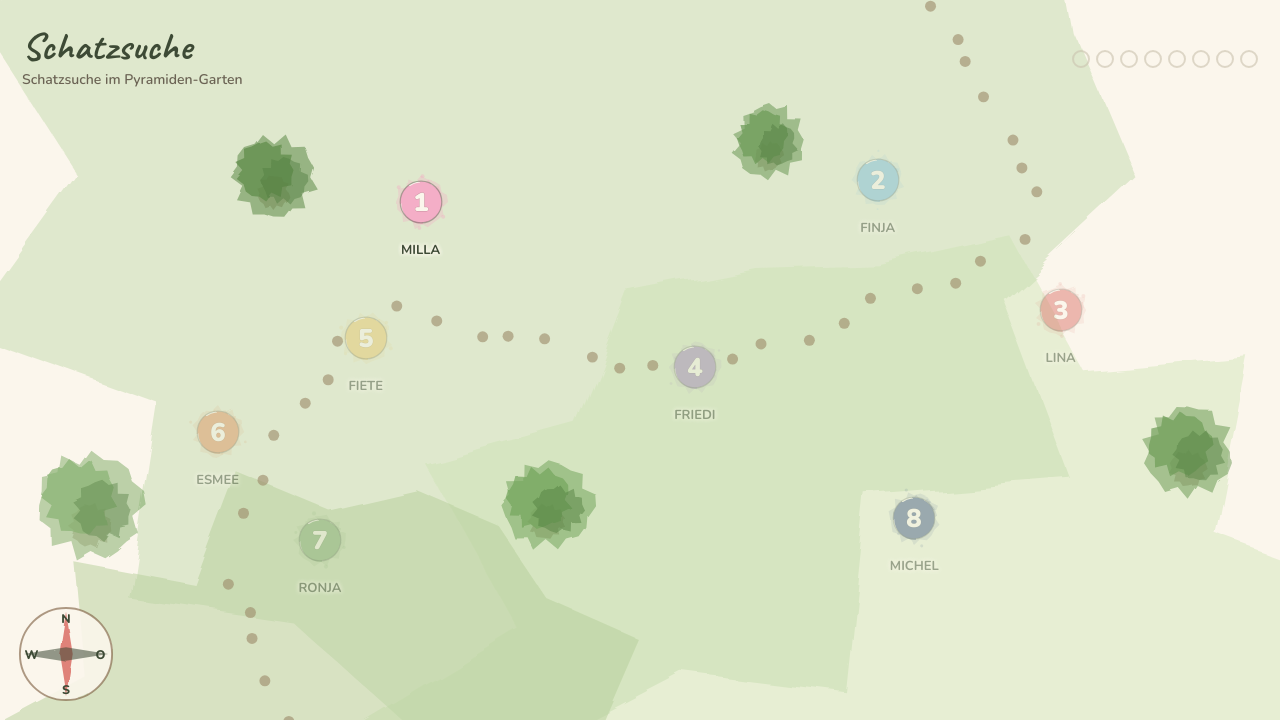
Test case: MapScreen › activates marker 2 (LINA) after marker 1 is solved
Click the button with test id "station-marker-1". click: (421, 202)
box: [381,162,461,242]
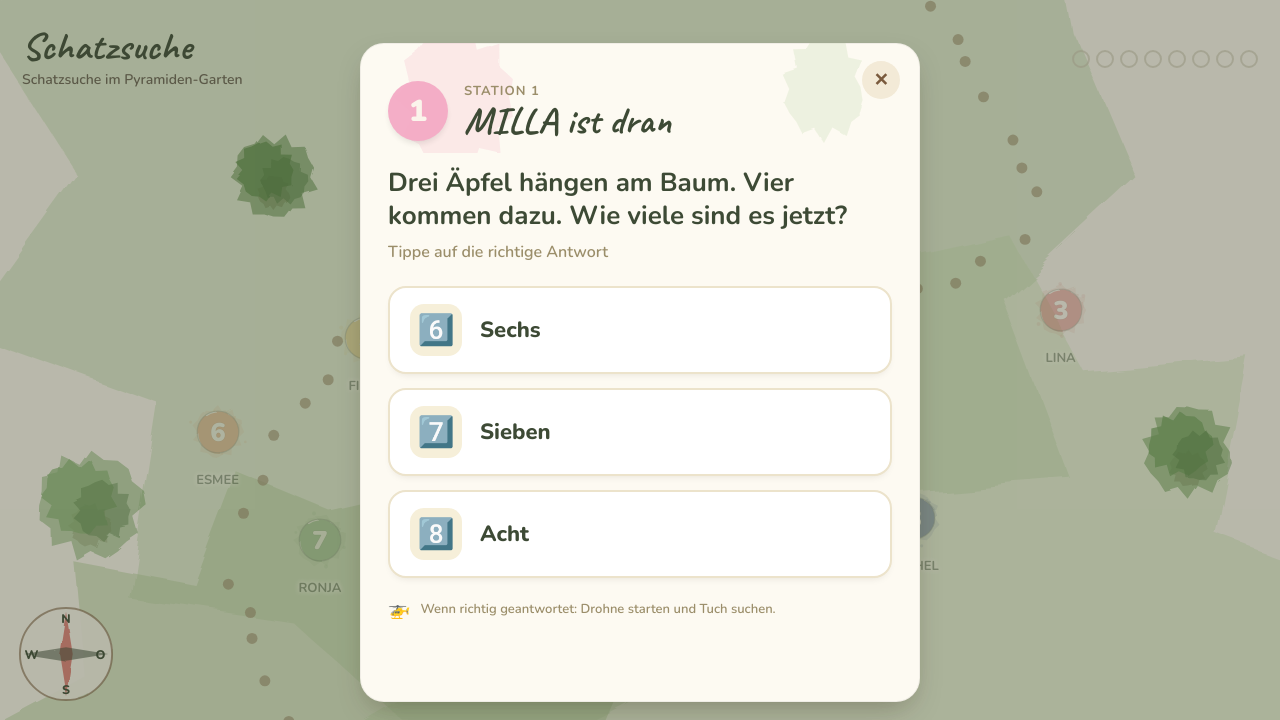
Click the button "7️⃣ Sieben". click: (436, 432)
box: [388,388,892,476]
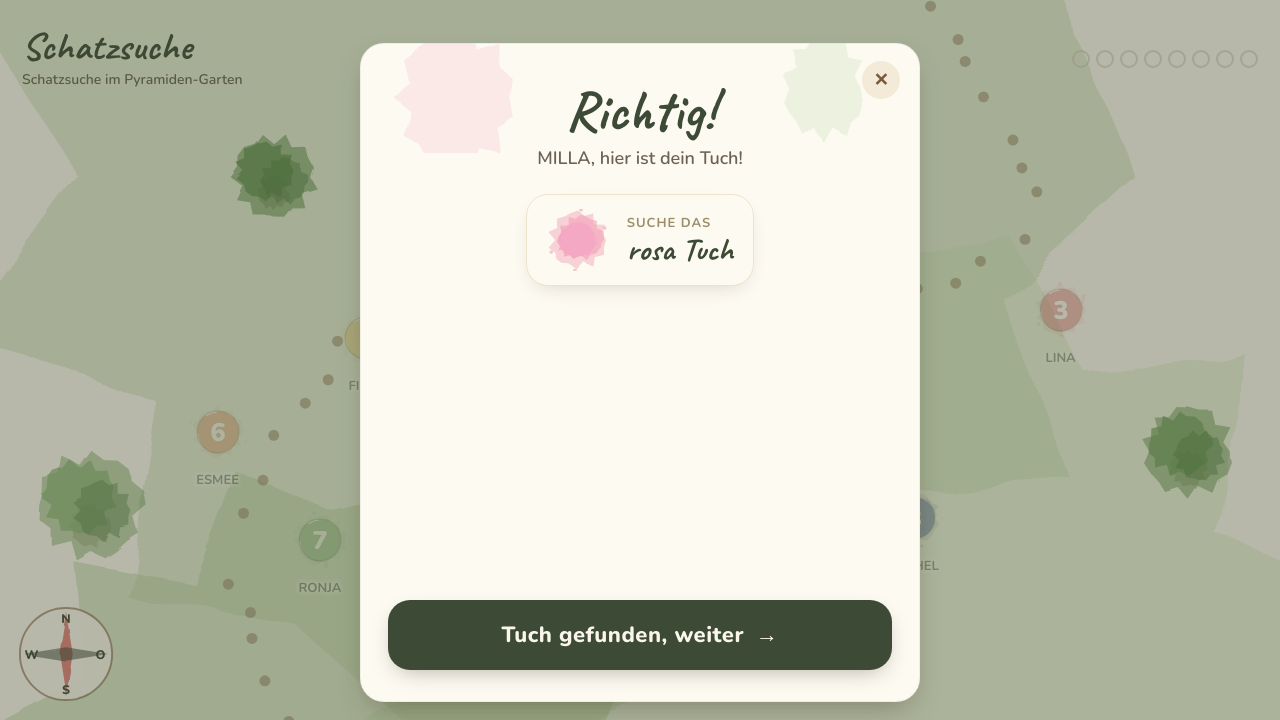
Click the button "Tuch gefunden, weiter →". click: (640, 635)
box: [388,600,892,670]
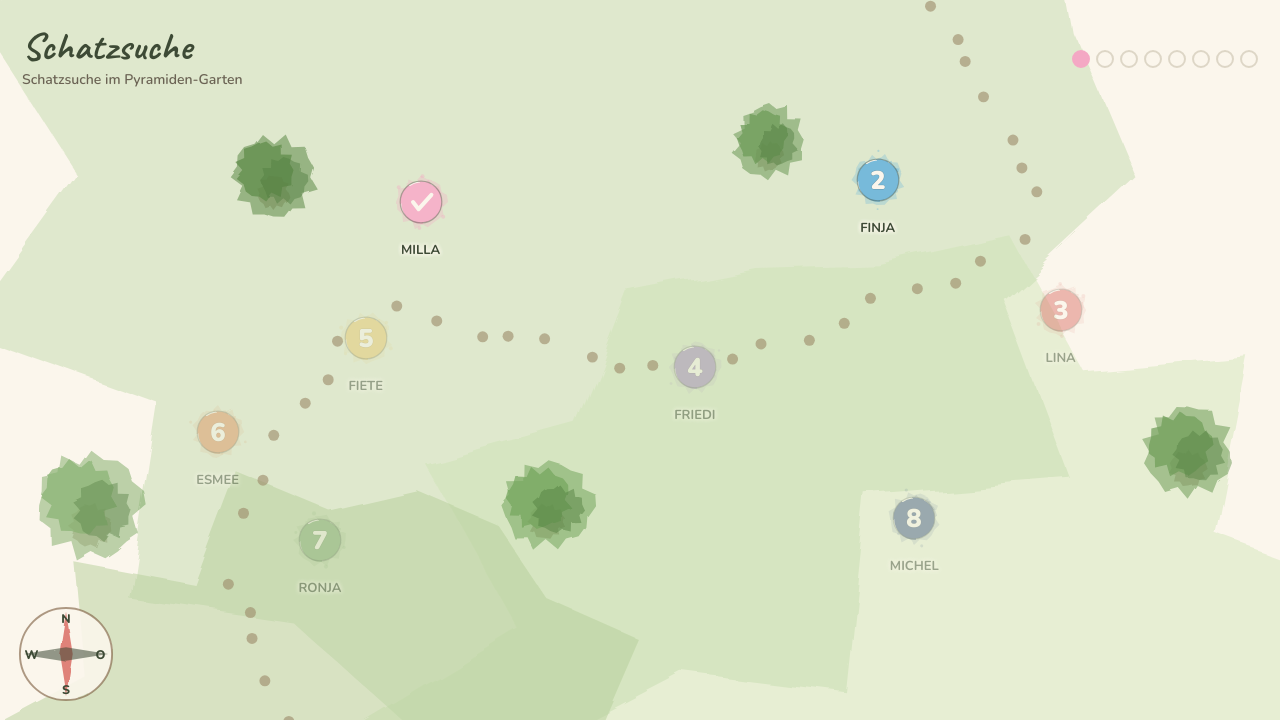
Expected: the button with test id "station-marker-2" is enabled, [838,140,918,220]
